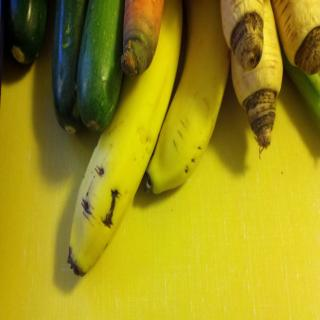Banana: (68, 8, 173, 283), (143, 0, 232, 196)
Cucumber: (72, 0, 121, 133), (53, 0, 88, 138), (8, 0, 46, 68)
